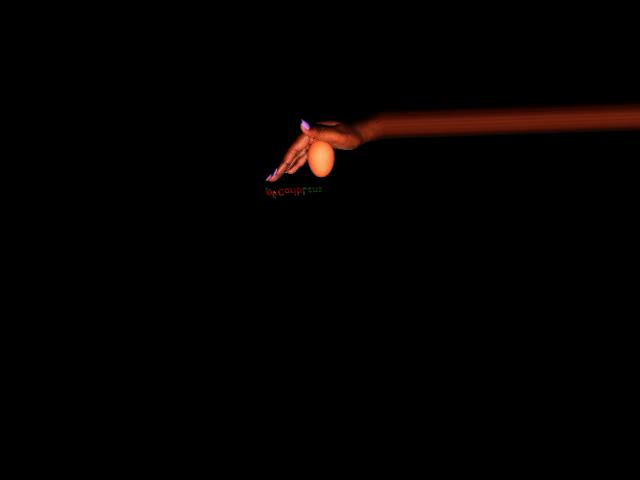egg: (306, 140, 335, 177)
